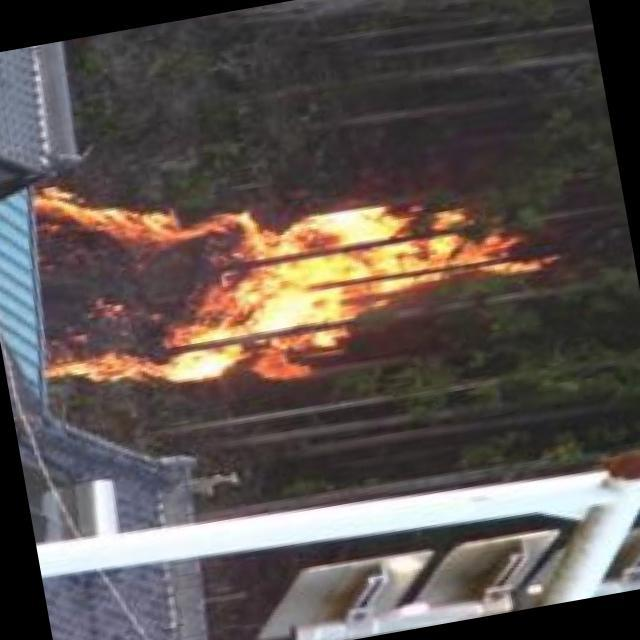Fire: (17, 134, 518, 411)
